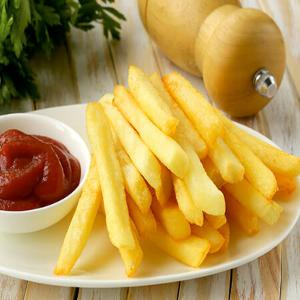fries: (73, 66, 286, 267)
